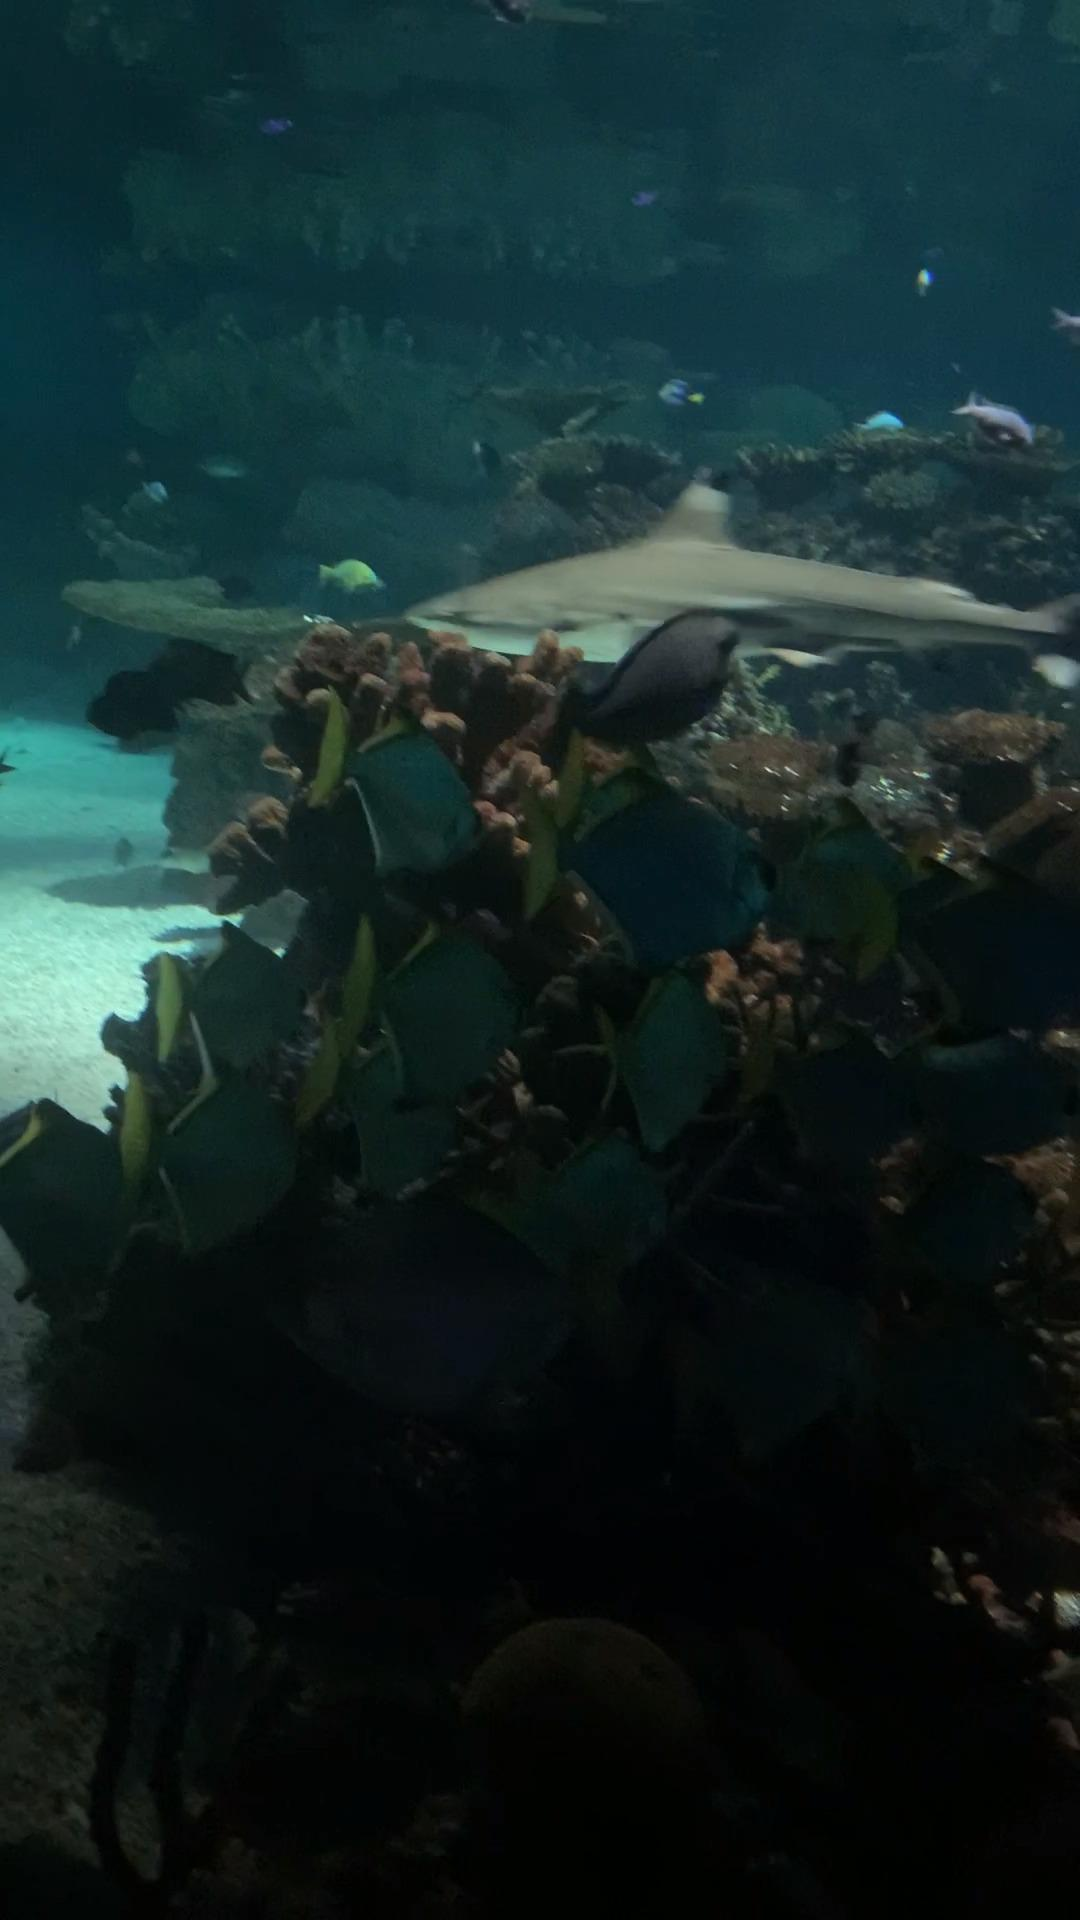fish: (268, 1189, 560, 1406), (516, 765, 769, 965), (882, 855, 1080, 1038), (116, 1058, 298, 1247), (667, 1287, 860, 1465), (305, 680, 477, 870), (0, 1097, 142, 1321), (853, 1303, 1033, 1481), (345, 911, 512, 1100), (550, 607, 737, 767), (301, 1023, 455, 1193), (736, 1034, 909, 1175), (592, 969, 723, 1145), (884, 1034, 1063, 1160), (779, 806, 932, 952), (156, 923, 305, 1065), (514, 1138, 663, 1275), (887, 1171, 1033, 1284), (947, 386, 1043, 456), (314, 555, 389, 599), (193, 444, 253, 485), (658, 375, 711, 413), (849, 409, 909, 442), (1044, 305, 1080, 345), (255, 111, 295, 138), (911, 262, 938, 302), (625, 187, 666, 211)
shark: (398, 473, 1080, 669)
